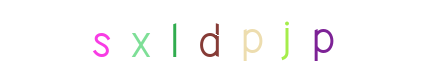D: (171, 0, 251, 80)
J: (205, 0, 285, 80)
L: (153, 0, 233, 80)
P: (182, 0, 262, 80), (282, 0, 362, 80)
S: (110, 0, 190, 80)
X: (134, 0, 214, 80)
